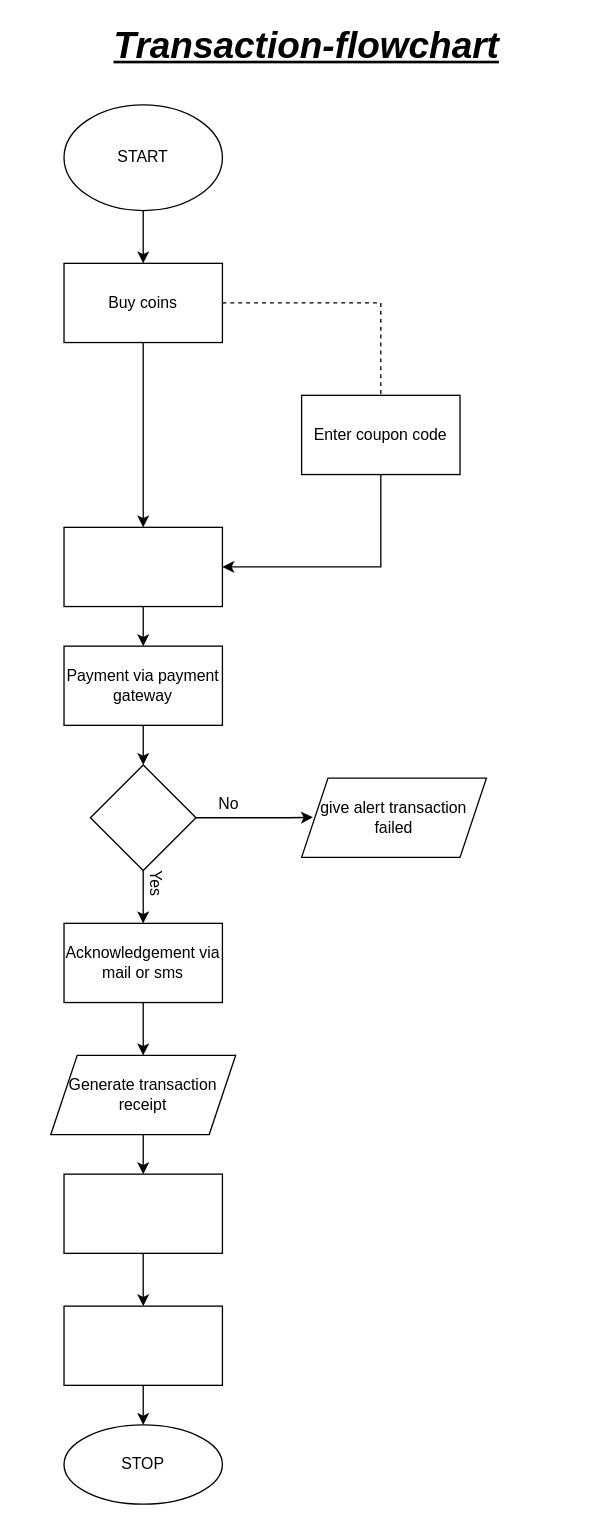
Image size: 612x1527. Some labels were removed from this diagram. The shapes that lost their labels are listed below. From the top down, each one's centre as x and y in pixels, then its label:
At point 142,566: "Check-out form".
At point 142,817: "Success".
At point 142,1213: "Add coins".
At point 142,1345: "Store transaction data in database".
